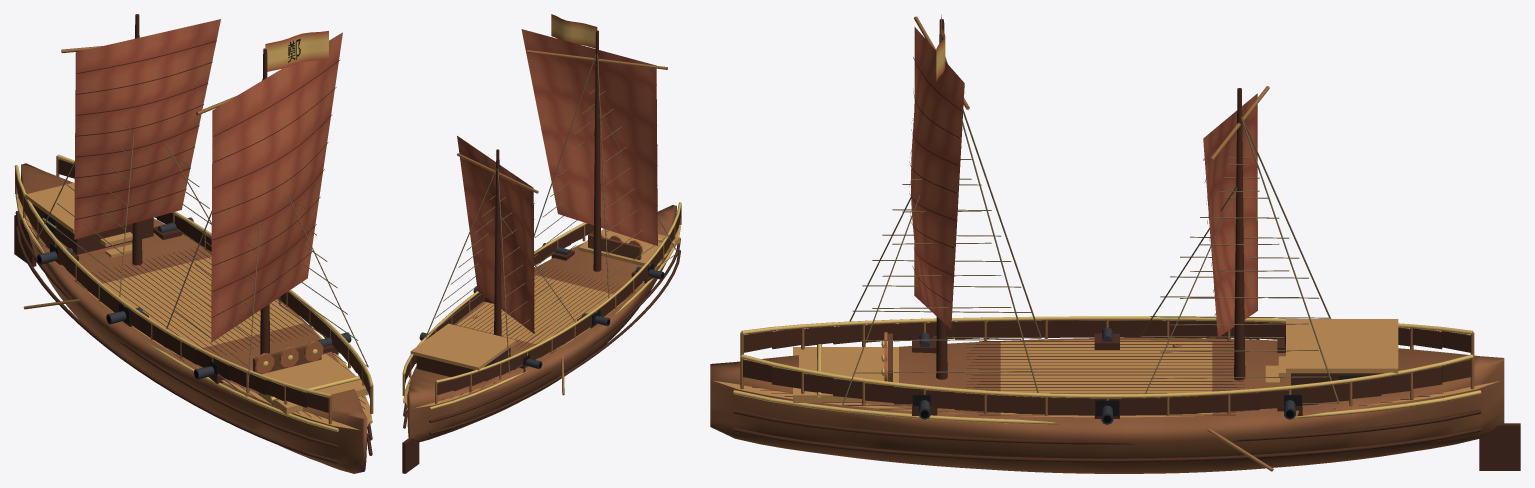
Rendered from patrol-lod0.glb.
3 views of the same model, side by side, from view 1: azimuth 30°, elevation 25°; view 2: azimuth 150°, elevation 25°; view 3: azimuth 270°, elevation 25° (orthographic). The views are drawn at different scales.
Visible parts, largest first — view 1: sail_02, sail_01, hull, fittings_wood, deck, fittings_trim, fittings_deck, bow_firing_platform_body, flag_01, patrol_stern_house_body, mast_timber_02, mast_timber_01 (+3 smaller); view 2: sail_02, hull, sail_01, fittings_wood, fittings_trim, deck, fittings_deck, mast_timber_02, mast_timber_01, flag_01, bow_firing_platform_body, patrol_stern_house_body (+3 smaller); view 3: hull, fittings_wood, fittings_trim, deck, fittings_deck, sail_02, sail_01, bow_firing_platform_body, mast_timber_01, rudder_pivot.
Part boxes in pixels (left/top/right/bottom): sail_02: left=211, top=32, right=342, bottom=342; sail_01: left=74, top=19, right=220, bottom=239; hull: left=21, top=163, right=367, bottom=473; fittings_wood: left=15, top=156, right=373, bottom=463; deck: left=17, top=194, right=371, bottom=429; fittings_trim: left=14, top=78, right=373, bottom=431; fittings_deck: left=25, top=182, right=365, bottom=419; bow_firing_platform_body: left=258, top=354, right=368, bottom=414; flag_01: left=265, top=31, right=328, bottom=71; patrol_stern_house_body: left=32, top=204, right=153, bottom=254; mast_timber_02: left=260, top=48, right=269, bottom=354; mast_timber_01: left=132, top=14, right=142, bottom=265; sail_02: left=521, top=29, right=657, bottom=245; hull: left=407, top=205, right=676, bottom=442; sail_01: left=457, top=136, right=535, bottom=333; fittings_wood: left=402, top=205, right=681, bottom=434; fittings_trim: left=402, top=54, right=681, bottom=409; deck: left=404, top=225, right=679, bottom=408; fittings_deck: left=408, top=240, right=670, bottom=399; mast_timber_02: left=593, top=30, right=601, bottom=271; mast_timber_01: left=494, top=149, right=501, bottom=336; flag_01: left=551, top=14, right=597, bottom=48; bow_firing_platform_body: left=578, top=229, right=680, bottom=265; patrol_stern_house_body: left=416, top=347, right=510, bottom=376; hull: left=710, top=337, right=1504, bottom=473; fittings_wood: left=733, top=320, right=1481, bottom=471; fittings_trim: left=733, top=57, right=1481, bottom=424; deck: left=713, top=340, right=1499, bottom=417; fittings_deck: left=752, top=319, right=1453, bottom=415; sail_02: left=909, top=27, right=964, bottom=329; sail_01: left=1203, top=93, right=1257, bottom=337; bow_firing_platform_body: left=793, top=347, right=898, bottom=402; mast_timber_01: left=1234, top=88, right=1245, bottom=380; rudder_pivot: left=1479, top=423, right=1520, bottom=470.
Size of the model in its own units: 8.09 by 15.2 by 24.49.
